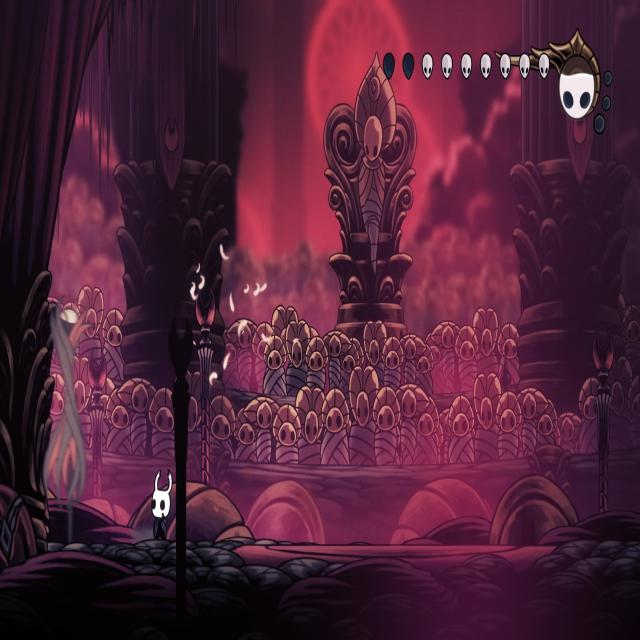Grimm: (42, 297, 88, 541)
Player: (147, 464, 172, 542)
